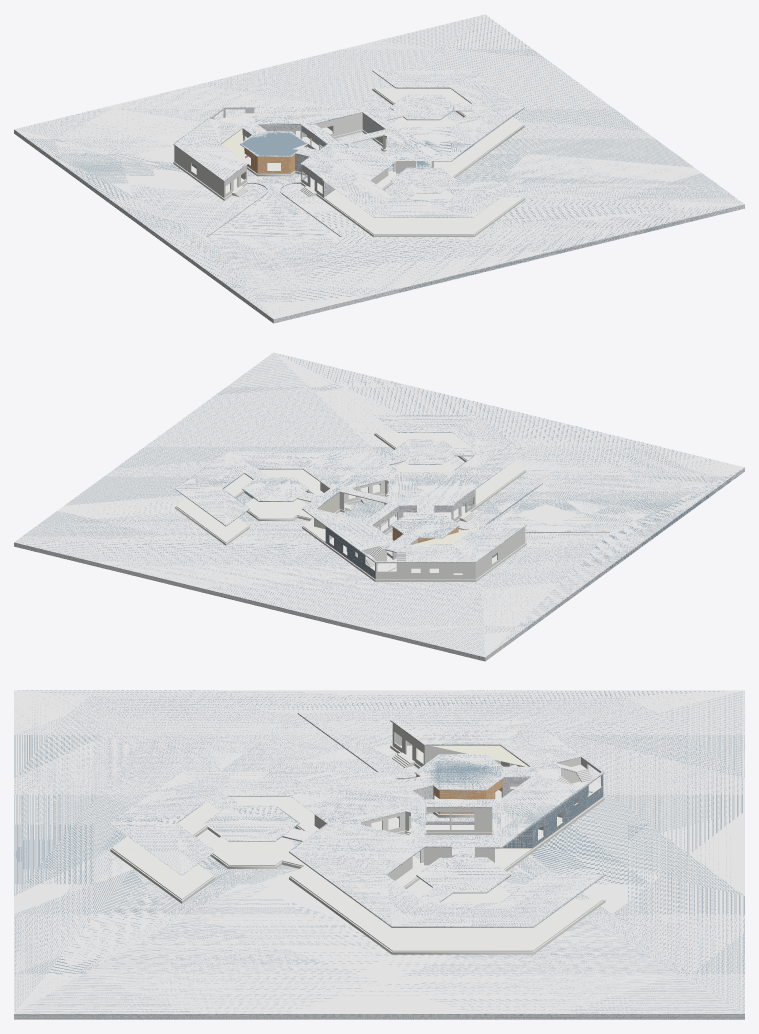
The picture shows the model from 3 angles, top to bottom: view 1: azimuth 30°, elevation 25°; view 2: azimuth 150°, elevation 25°; view 3: azimuth 270°, elevation 25°; orthographic projection. The views are drawn at different scales.
Visible parts, largest first — view 1: Group2, Group1, Group61, Group3, Group60, Group51; view 2: Group2, Group1, Group61, Group3, Group60; view 3: Group2, Group1, Group61, Group3, Group60, Group51.
Part boxes in pixels (<box>): Group2: <box>14,14,744,323</box>; Group1: <box>173,70,524,217</box>; Group61: <box>173,88,525,236</box>; Group3: <box>174,108,433,197</box>; Group60: <box>240,131,308,156</box>; Group51: <box>244,145,307,173</box>; Group2: <box>14,352,744,661</box>; Group1: <box>175,415,526,562</box>; Group61: <box>175,433,526,581</box>; Group3: <box>314,481,525,578</box>; Group60: <box>391,512,459,538</box>; Group2: <box>14,690,744,1019</box>; Group1: <box>110,720,605,927</box>; Group61: <box>110,745,605,954</box>; Group3: <box>314,723,603,880</box>; Group60: <box>414,754,503,790</box>; Group51: <box>416,774,502,813</box>.
Size of the model in its own units: 119 by 5.8 by 113.
